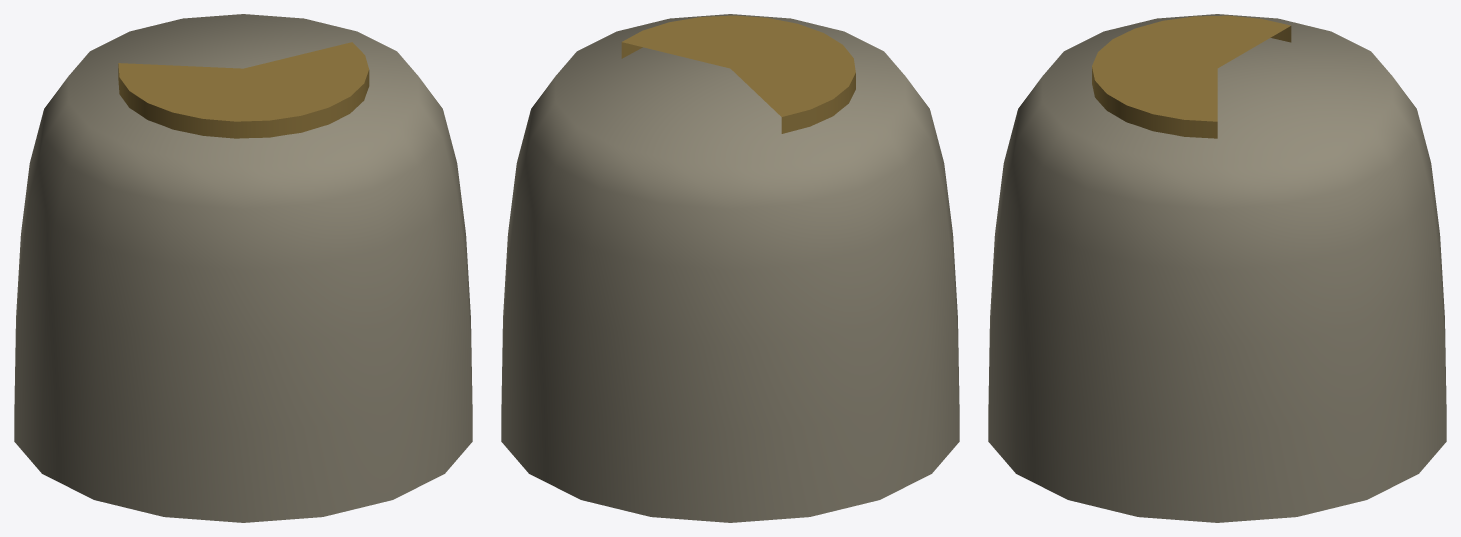
Rendered from holy_vestment.obj.
3 views of the same model, side by side, from view 1: azimuth 30°, elevation 25°; view 2: azimuth 150°, elevation 25°; view 3: azimuth 270°, elevation 25° (orthographic).
Parts seen in each view (by area): view 1: holy_vestment; view 2: holy_vestment; view 3: holy_vestment.
Part boxes in pixels (box(x1,y1,x2,y2)): holy_vestment: box(14, 14, 472, 522); holy_vestment: box(501, 14, 959, 522); holy_vestment: box(988, 14, 1446, 522).
Bounding box in the file's own units: 1.48 × 1.25 × 1.46.
